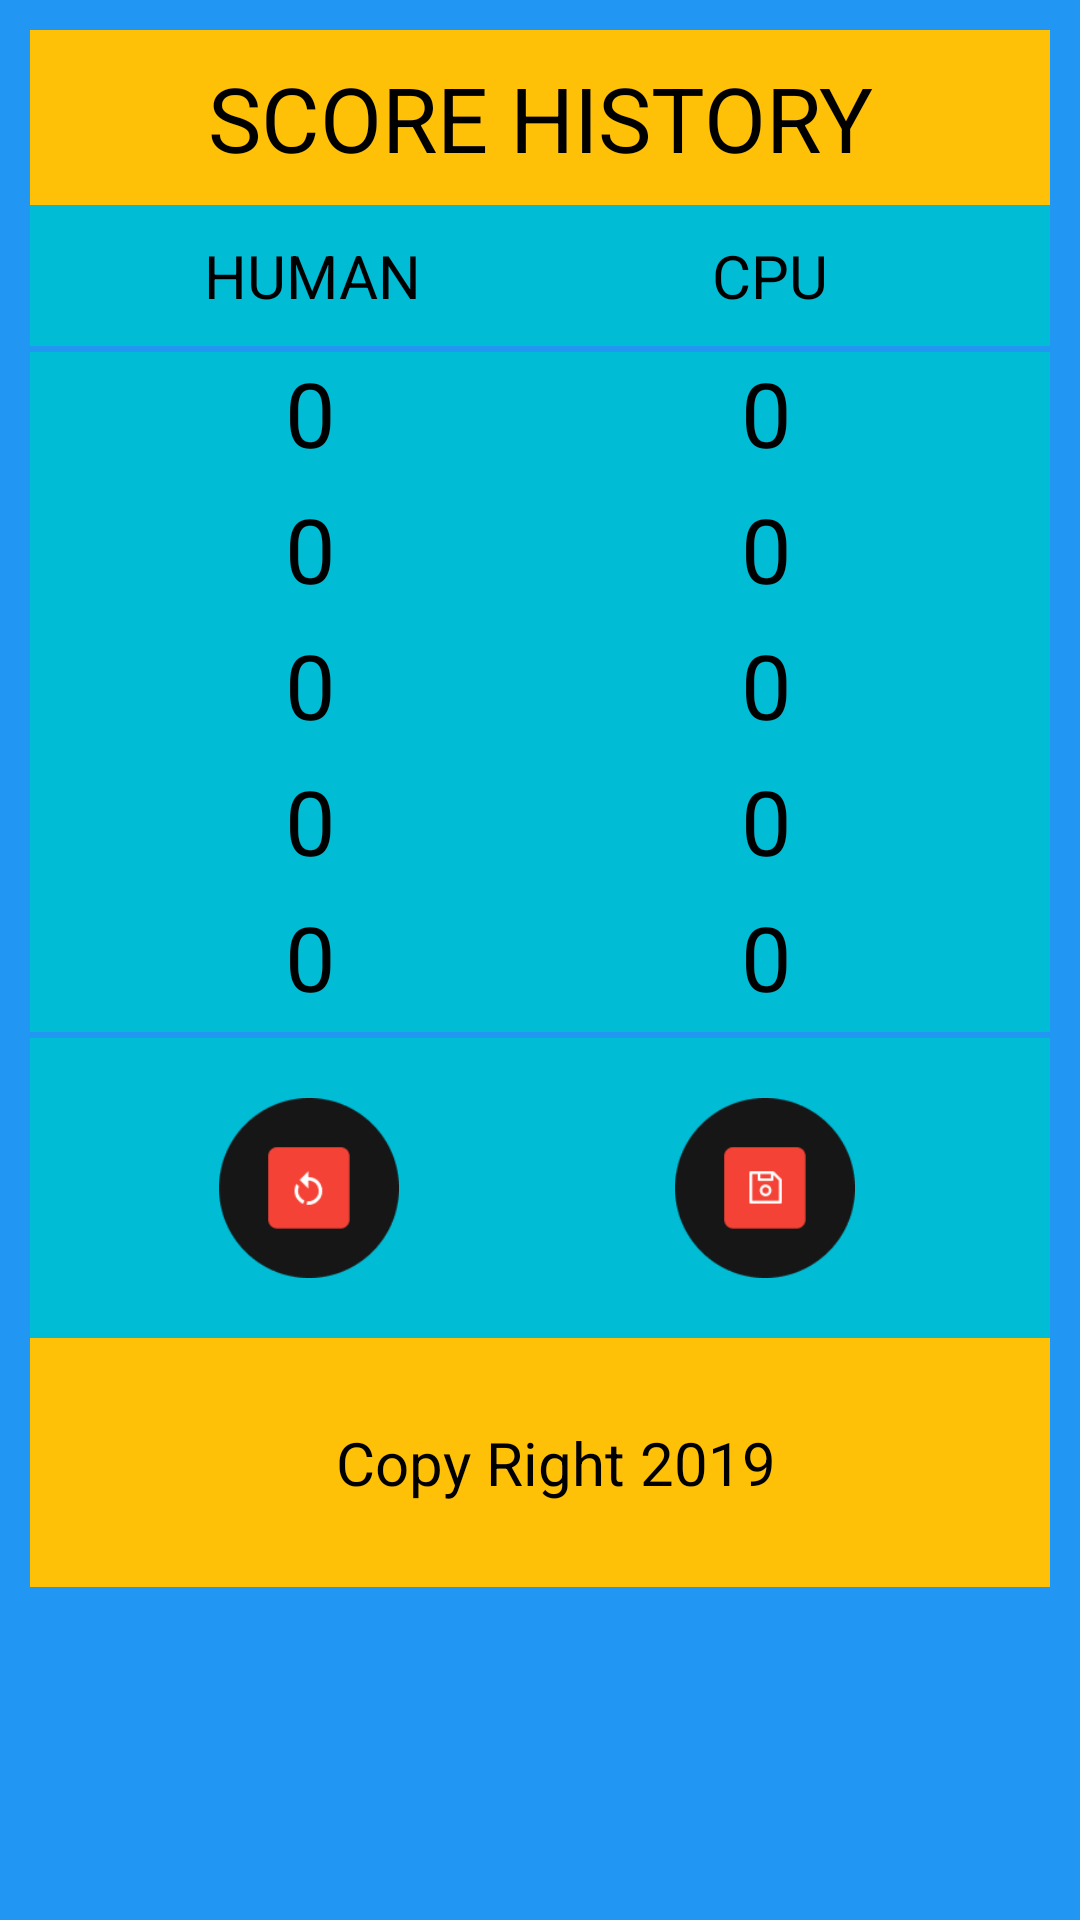

Named icons in this screenshot (1080px x 1920px) and their bounding boxes, (x1, y1, x2, y2):
restart: (219, 1098, 399, 1278)
save: (675, 1098, 855, 1278)
